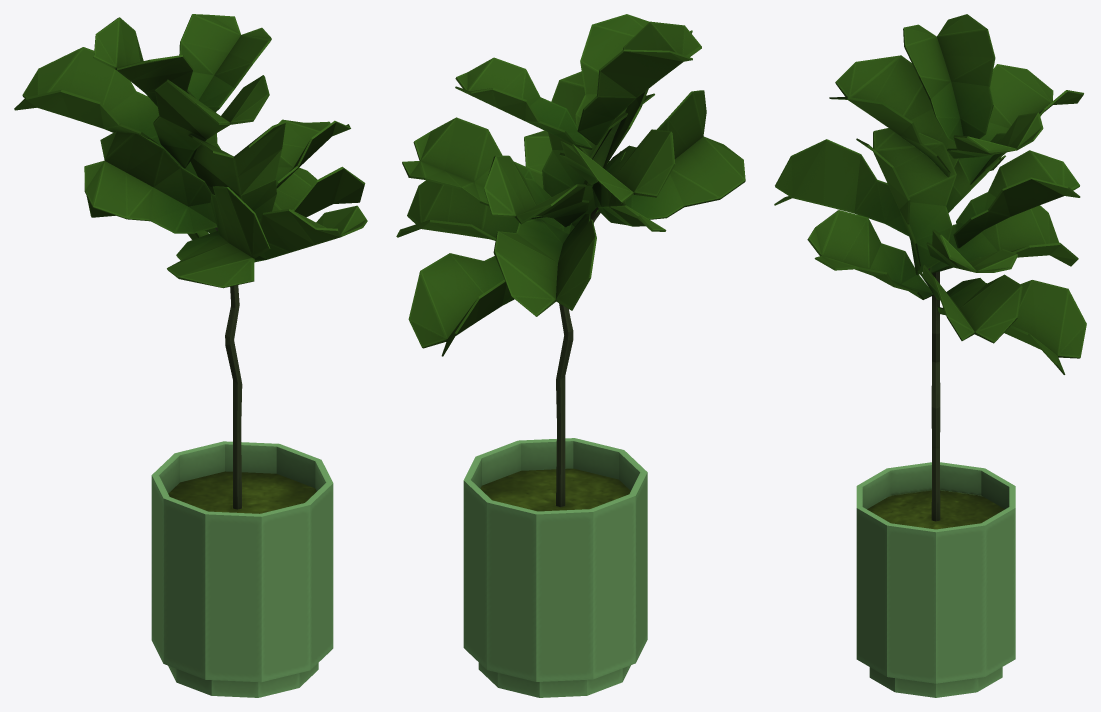
File: whole_plant.glb
3 views of the same model, side by side, from view 1: azimuth 30°, elevation 25°; view 2: azimuth 150°, elevation 25°; view 3: azimuth 270°, elevation 25° (orthographic). The views are drawn at different scales.
Visible parts, largest first — view 1: FiddleleafFigPottedPlant_mesh; view 2: FiddleleafFigPottedPlant_mesh; view 3: FiddleleafFigPottedPlant_mesh.
Part boxes in pixels (left/top/right/bottom): FiddleleafFigPottedPlant_mesh: left=14, top=14, right=367, bottom=697; FiddleleafFigPottedPlant_mesh: left=396, top=14, right=745, bottom=697; FiddleleafFigPottedPlant_mesh: left=774, top=14, right=1086, bottom=697.
Bounding box in the file's own units: 0.9617 × 2 × 0.95.
Materials: 1 (1 with a texture image).
